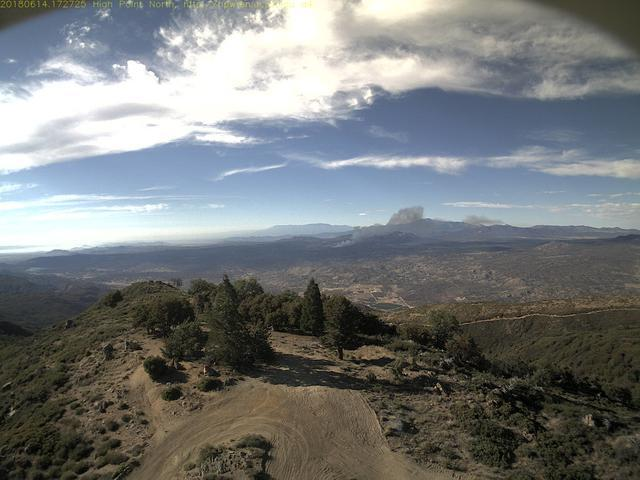smoke: (329, 203, 426, 251)
